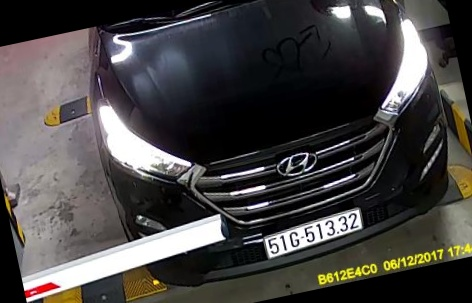plate: (252, 191, 365, 262)
